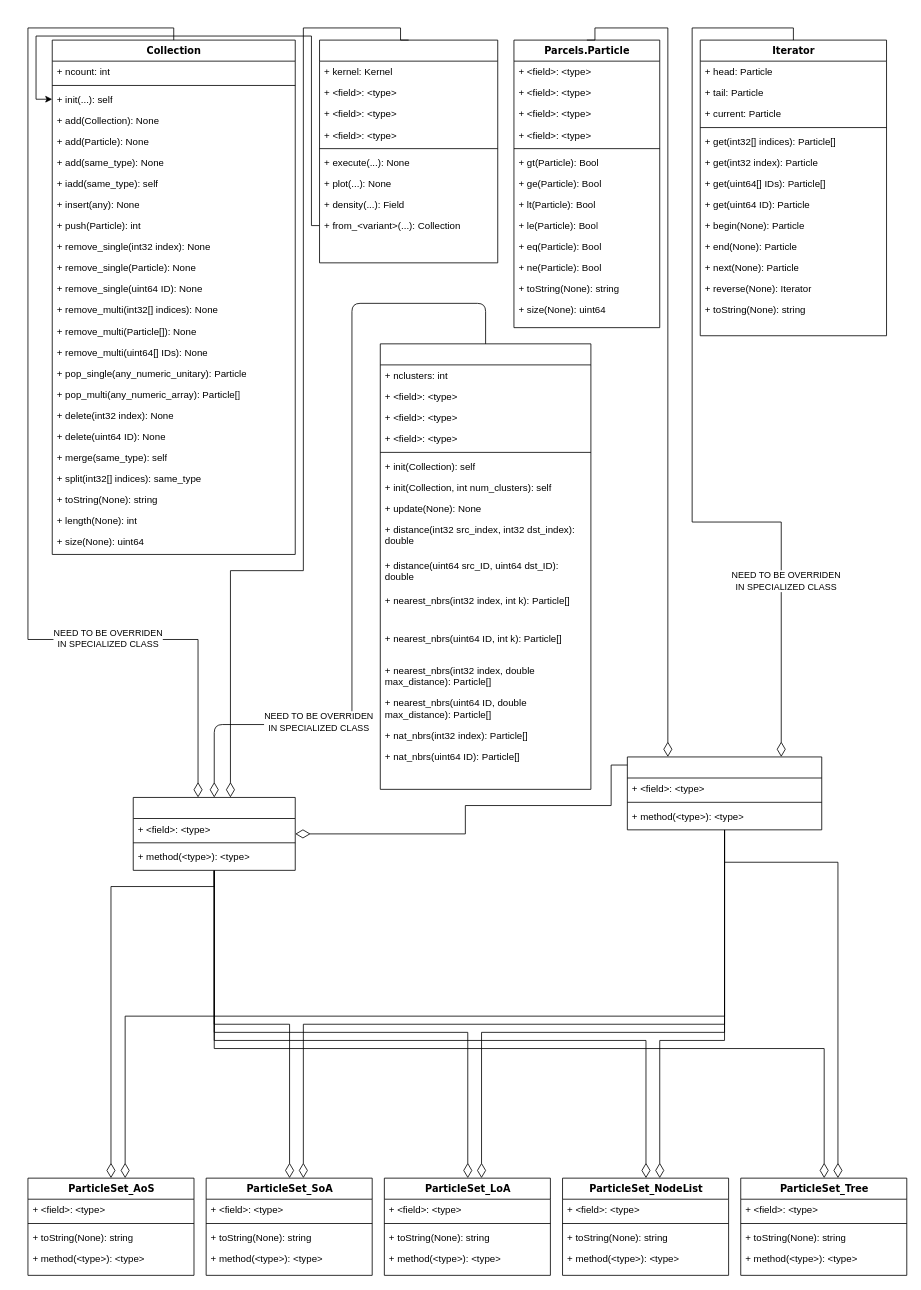
This 921x1290 diagram has some shape labels left out. Each missing label, with the box of its shape:
BaseParticleAccessor (abstract): (627, 756, 822, 830)
BaseParticleSet (abstract): (132, 797, 295, 870)
nD_Cluster: (379, 343, 591, 789)
Parcels Particles: (319, 39, 498, 263)
